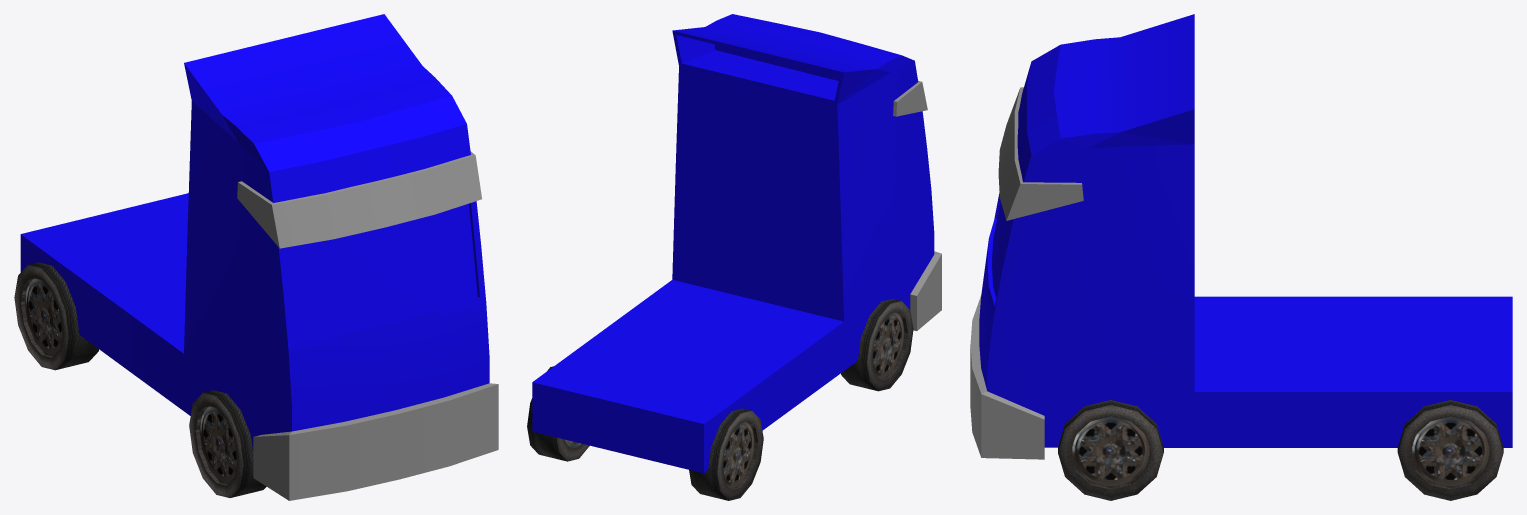
The model's file is Truck.DAE.
3 renders of one model, left to right at view 1: azimuth 30°, elevation 25°; view 2: azimuth 150°, elevation 25°; view 3: azimuth 270°, elevation 25°, orthographic. The views are drawn at different scales.
Parts seen in each view (by area): view 1: Truck-Pivot, Truck_Bumper-Pivot, Truck_SunScreen-Pivot, Tire_Truck04, Tire_Truck03; view 2: Truck-Pivot, Tire_Truck04, Tire_Truck03, Truck_Bumper-Pivot, Tire_Truck02, Truck_SunScreen-Pivot; view 3: Truck-Pivot, Tire_Truck02, Tire_Truck01, Truck_Bumper-Pivot, Truck_SunScreen-Pivot.
Part boxes in pixels (left/top/right/bottom): Truck-Pivot: left=20, top=14, right=489, bottom=450; Truck_Bumper-Pivot: left=253, top=383, right=498, bottom=500; Truck_SunScreen-Pivot: left=237, top=151, right=481, bottom=248; Tire_Truck04: left=14, top=262, right=98, bottom=370; Tire_Truck03: left=189, top=390, right=266, bottom=497; Truck-Pivot: left=532, top=14, right=934, bottom=473; Tire_Truck04: left=689, top=408, right=763, bottom=500; Tire_Truck03: left=841, top=299, right=913, bottom=391; Truck_Bumper-Pivot: left=910, top=251, right=941, bottom=330; Tire_Truck02: left=527, top=366, right=589, bottom=461; Truck_SunScreen-Pivot: left=893, top=80, right=927, bottom=116; Truck-Pivot: left=979, top=14, right=1512, bottom=447; Tire_Truck02: left=1397, top=400, right=1503, bottom=500; Tire_Truck01: left=1058, top=400, right=1163, bottom=500; Truck_Bumper-Pivot: left=970, top=295, right=1044, bottom=459; Truck_SunScreen-Pivot: left=998, top=87, right=1083, bottom=220.
Size of the model in its own units: 2.82 by 6.14 by 4.84.
